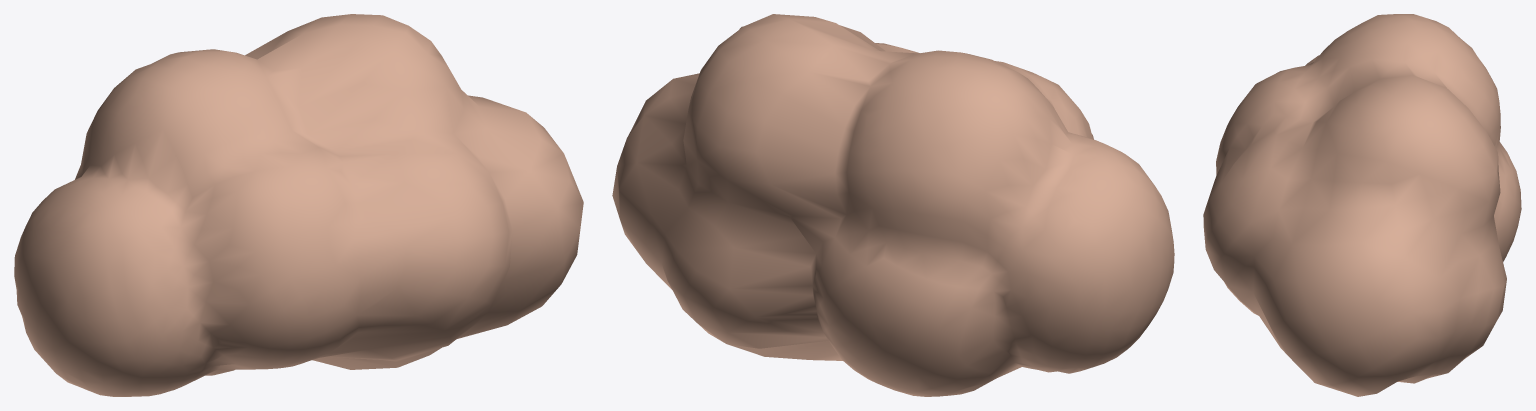
File: nuagebeige.fbx
The picture shows the model from 3 angles, left to right: view 1: azimuth 30°, elevation 25°; view 2: azimuth 150°, elevation 25°; view 3: azimuth 270°, elevation 25°; orthographic projection. The views are drawn at different scales.
Parts seen in each view (by area): view 1: nuagebeige:pPlatonic6; view 2: nuagebeige:pPlatonic6; view 3: nuagebeige:pPlatonic6.
Part boxes in pixels (x1,y1,x2,y2): nuagebeige:pPlatonic6: [14, 14, 583, 396]; nuagebeige:pPlatonic6: [612, 14, 1174, 396]; nuagebeige:pPlatonic6: [1203, 14, 1521, 396].
Size of the model in its own units: 8.87 by 5.26 by 5.46.
